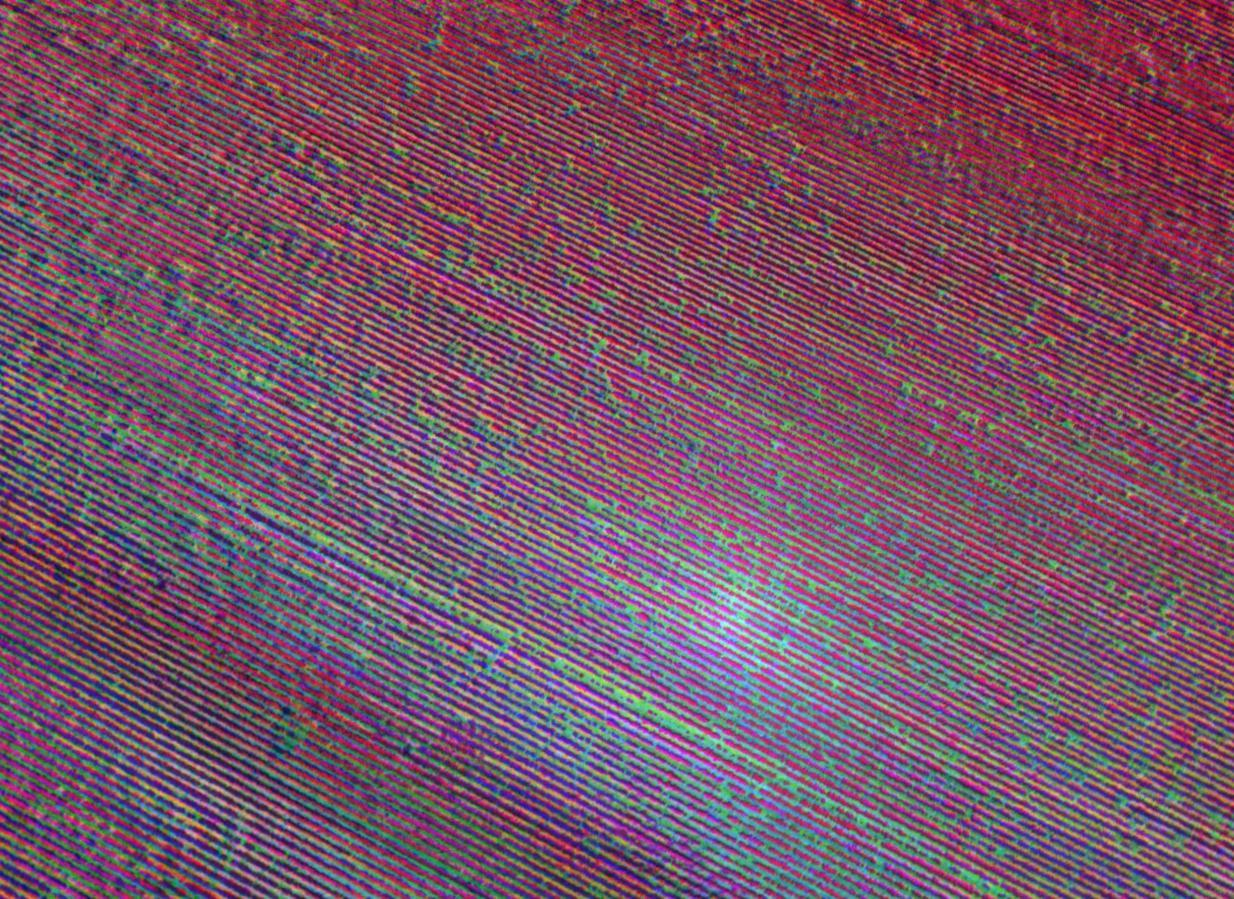dc: (686, 542, 809, 657), (244, 687, 356, 778), (208, 325, 316, 419)
